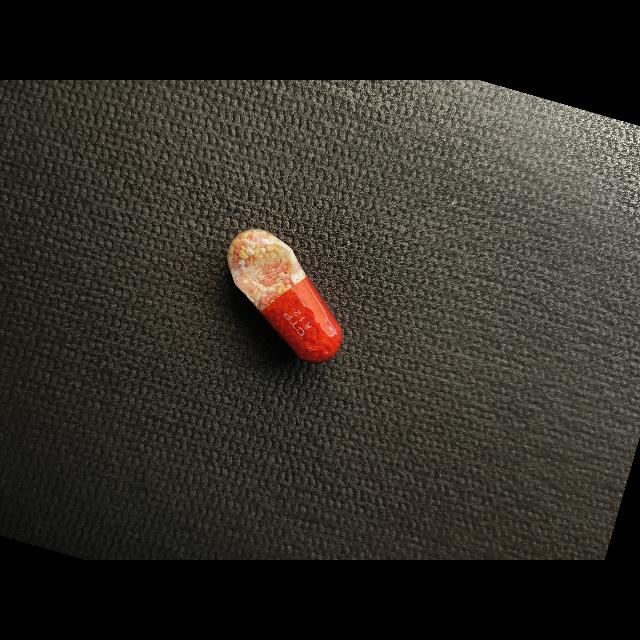Defective Capsule: (227, 229, 343, 362)
